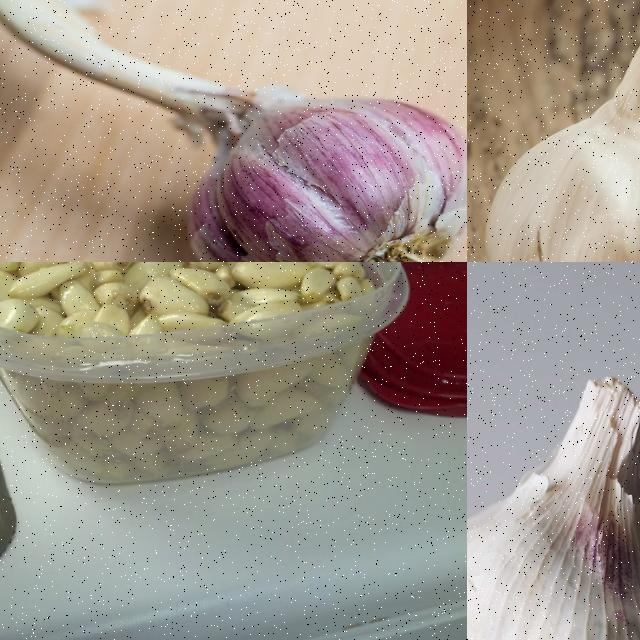garlic: (0, 262, 377, 471), (184, 83, 466, 261), (467, 377, 639, 639), (477, 0, 639, 261)
